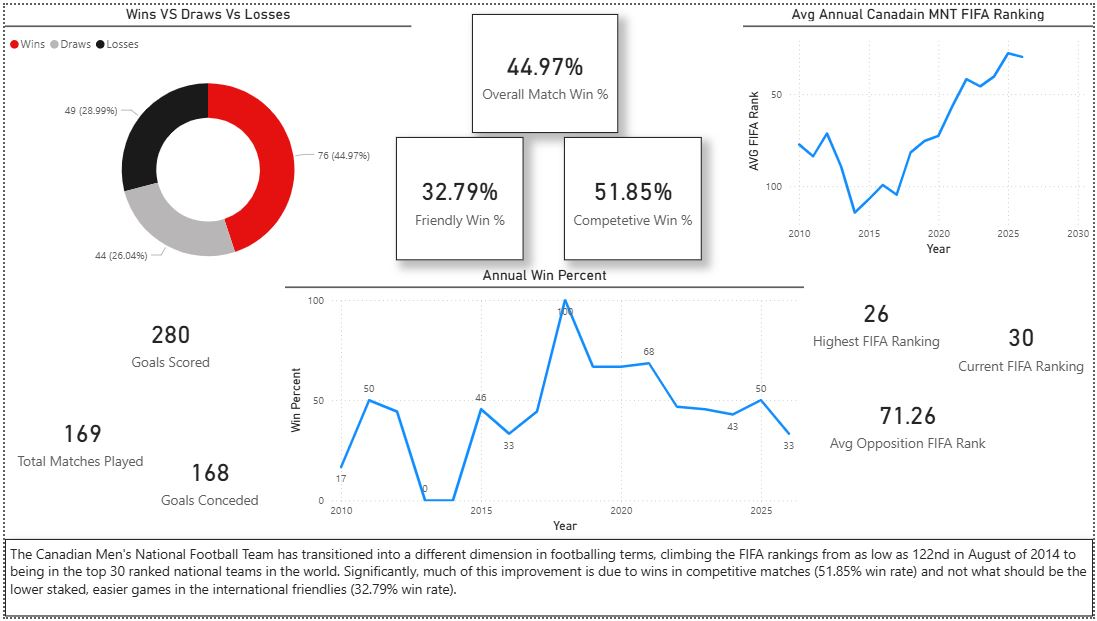

The dashboard page shown, as its layout file describes it:
{"tool":"powerbi","page":{"name":"Executive Summary","canvas":[1280,720],"ordinal":0},"visuals":[{"type":"lineChart","title":"Avg Annual Canadain MNT FIFA Ranking","fields":{"Y":["Sum(yearly_ranking.avg_rank)"],"Category":["yearly_ranking.ranking_year"]},"box":[868.1,0,411.9,299.7],"z":0},{"type":"donutChart","title":"Wins VS Draws Vs Losses","fields":{"Y":["Sum(yearly_summary.wins)","Sum(yearly_summary.draws)","Sum(yearly_summary.losses)"]},"box":[0,0,477.8,332.9],"z":1000},{"type":"lineChart","title":"Annual Win Percent","fields":{"Y":["Sum(yearly_summary.win_pct)"],"Category":["yearly_summary.match_year"]},"box":[329.3,307.2,610.9,318.8],"z":2000},{"type":"card","fields":{"Values":["Measures Table.Overall Matches -Total"]},"box":[0,436.4,181.5,151.3],"z":3000},{"type":"card","fields":{"Values":["Measures Table.Overall Win %"]},"box":[549.2,10.5,172.2,139.6],"z":4000},{"type":"card","fields":{"Values":["Sum(yearly_summary.goals_for)"]},"box":[100.1,324.7,189.7,142],"z":5000},{"type":"card","fields":{"Values":["Sum(yearly_summary.goals_against)"]},"box":[168.7,491.1,145.5,135],"z":6000},{"type":"card","fields":{"Values":["Min(canada_rankings.rank_pos)"]},"box":[940.2,295.6,169.9,151.3],"z":7000},{"type":"card","fields":{"Values":["Avg(results_vs_opponent_strength.opponent_rank_at_match_time)"]},"box":[962.3,415.4,199,151.3],"z":8000},{"type":"card","fields":{"Values":["canada_rankings.Rank - June 11 2026"]},"box":[1110.1,324.7,169.9,150.1],"z":9000},{"type":"card","fields":{"Values":["Measures Table.Competetive Win %"]},"box":[657.5,154.8,161.7,145.5],"z":10000},{"type":"card","fields":{"Values":["Measures Table.Friendly Win %"]},"box":[459.6,154.8,150.1,145.5],"z":11000},{"type":"textbox","box":[0,628.4,1280,90.8],"z":12000}]}

Visuals, with their boxes in screenshot pixels (x1, y1, x2, y2), scaled from the page's 1280x720 canvas onto the 1097x621 screenshot:
"Avg Annual Canadain MNT FIFA Ranking" lineChart: left=744, top=0, right=1096, bottom=258
"Wins VS Draws Vs Losses" donutChart: left=0, top=0, right=409, bottom=287
"Annual Win Percent" lineChart: left=282, top=265, right=806, bottom=540
card - Measures Table.Overall Matches -Total: left=0, top=376, right=156, bottom=507
card - Measures Table.Overall Win %: left=471, top=9, right=618, bottom=129
card - Sum(yearly_summary.goals_for): left=86, top=280, right=248, bottom=403
card - Sum(yearly_summary.goals_against): left=145, top=424, right=269, bottom=540
card - Min(canada_rankings.rank_pos): left=806, top=255, right=951, bottom=385
card - Avg(results_vs_opponent_strength.opponent_rank_at_match_time): left=825, top=358, right=995, bottom=489
card - canada_rankings.Rank - June 11 2026: left=951, top=280, right=1096, bottom=410
card - Measures Table.Competetive Win %: left=563, top=134, right=702, bottom=259
card - Measures Table.Friendly Win %: left=394, top=134, right=523, bottom=259
textbox: left=0, top=542, right=1096, bottom=620
